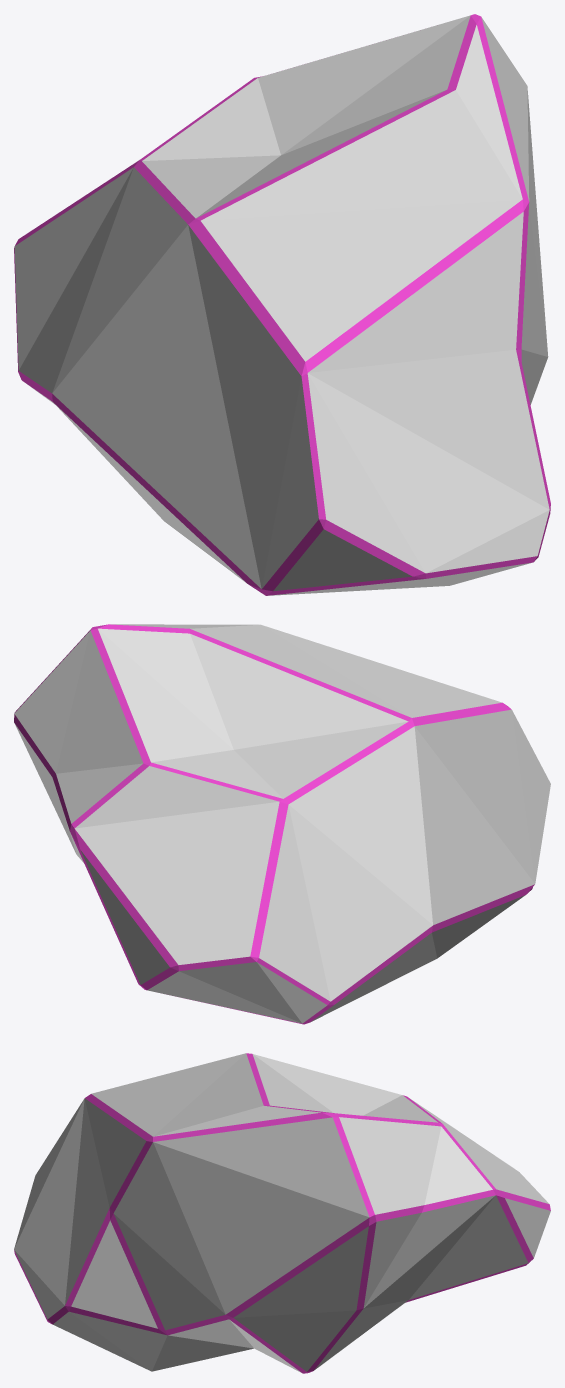
The model's file is stone_009.fbx.
The picture shows the model from 3 angles, top to bottom: view 1: azimuth 30°, elevation 25°; view 2: azimuth 150°, elevation 25°; view 3: azimuth 270°, elevation 25°; orthographic projection. The views are drawn at different scales.
Parts seen in each view (by area): view 1: stone_002_obj; view 2: stone_002_obj; view 3: stone_002_obj.
Boxes of the visible parts, x1,y1,x2,y2 form: stone_002_obj: [14, 14, 550, 595]; stone_002_obj: [14, 624, 550, 1024]; stone_002_obj: [14, 1053, 550, 1373].
Bounding box in the file's own units: 497 × 414 × 651.
